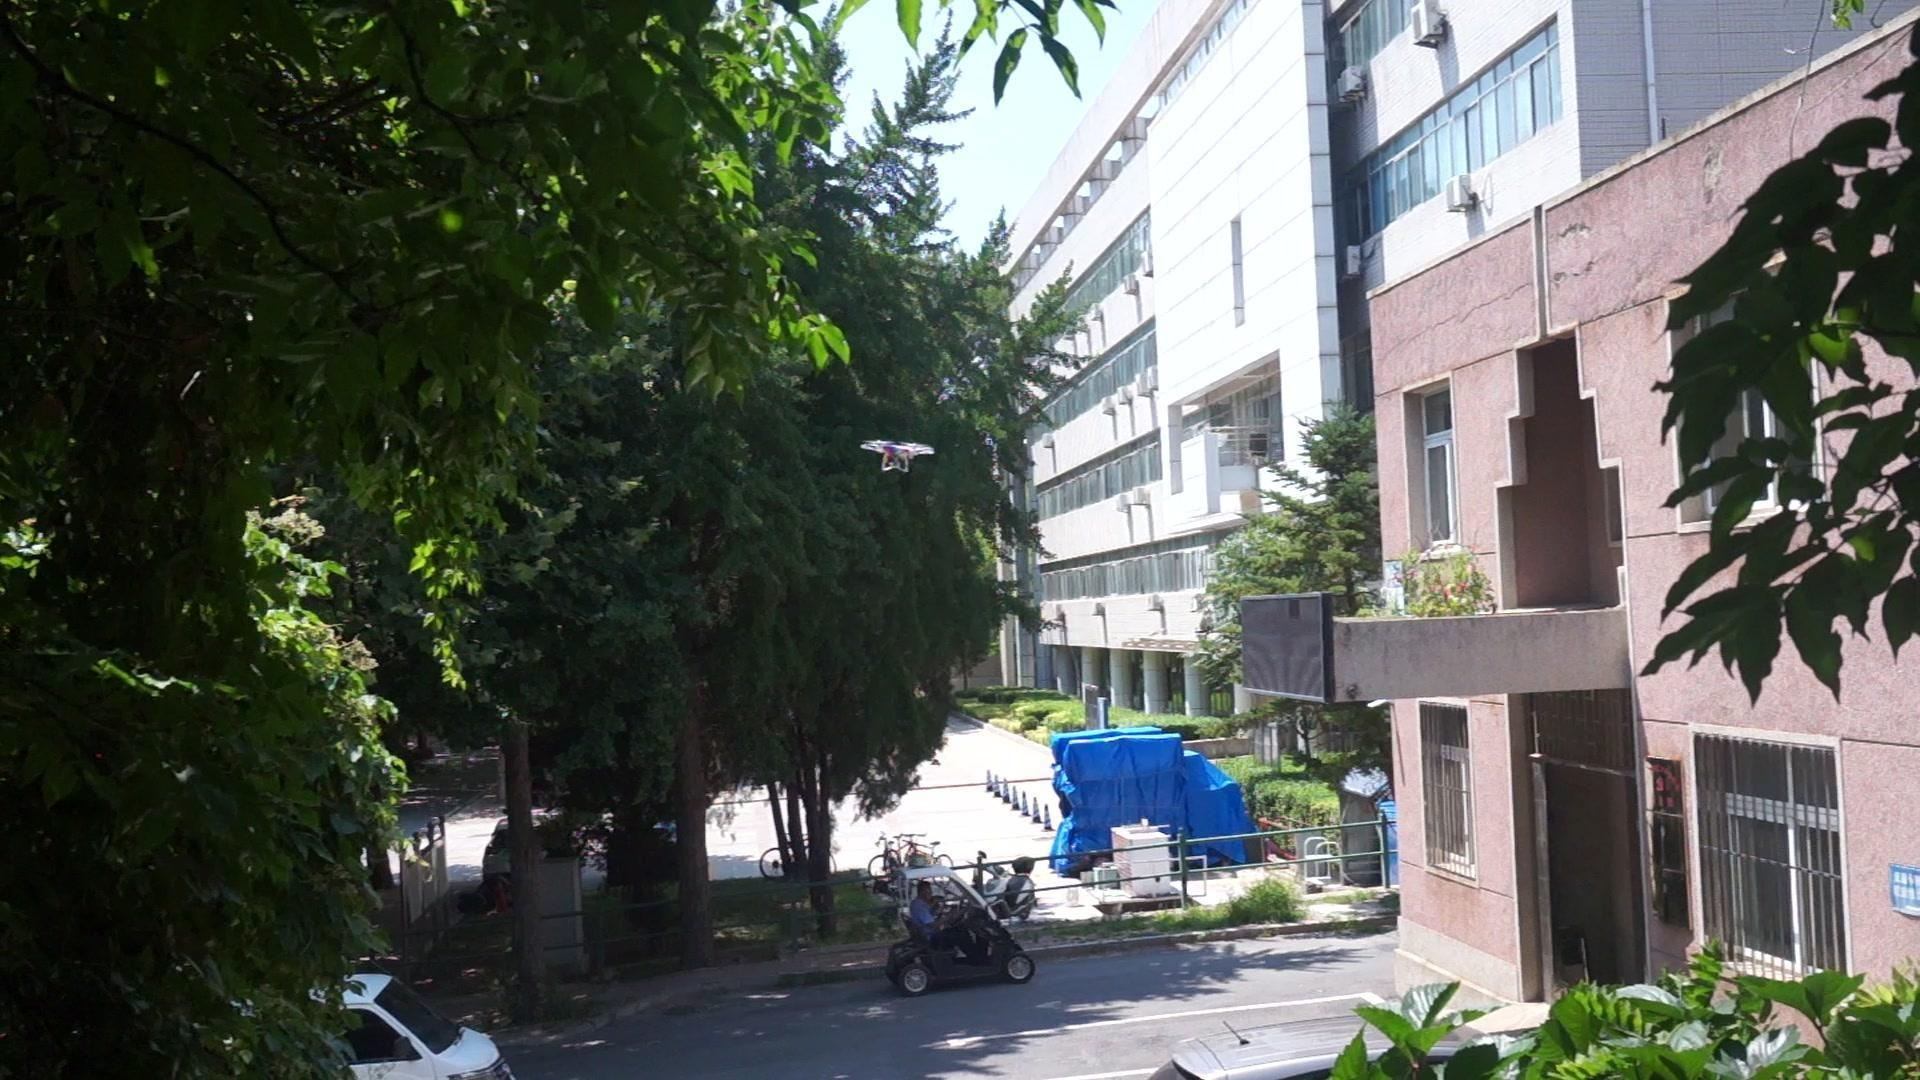UAV: (860, 439, 938, 473)
